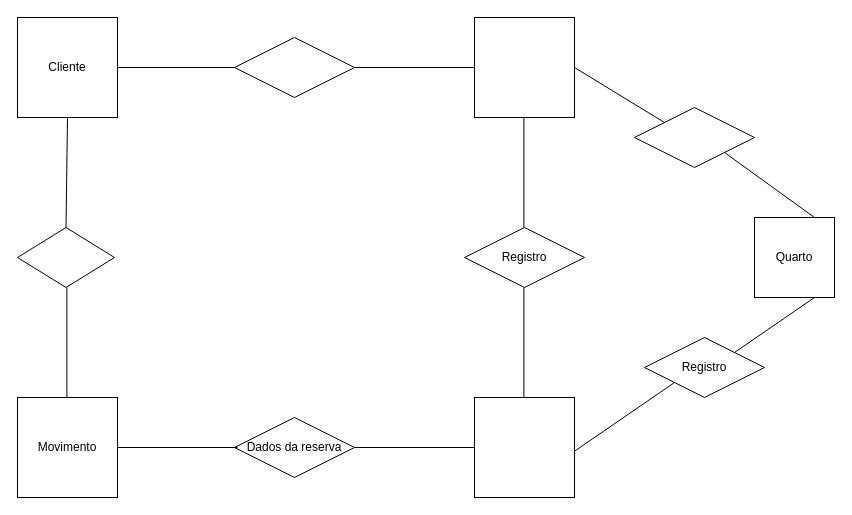
Some shapes in this 852 by 515 pixel diagram are drawn without their labels. The shapes that lost their labels are listed below. From the top down, each one's centre as x and y in pixels, then its label:
At (524,67): "Plano".
At (694,137): "Agendamento".
At (524,447): "Agenda".
